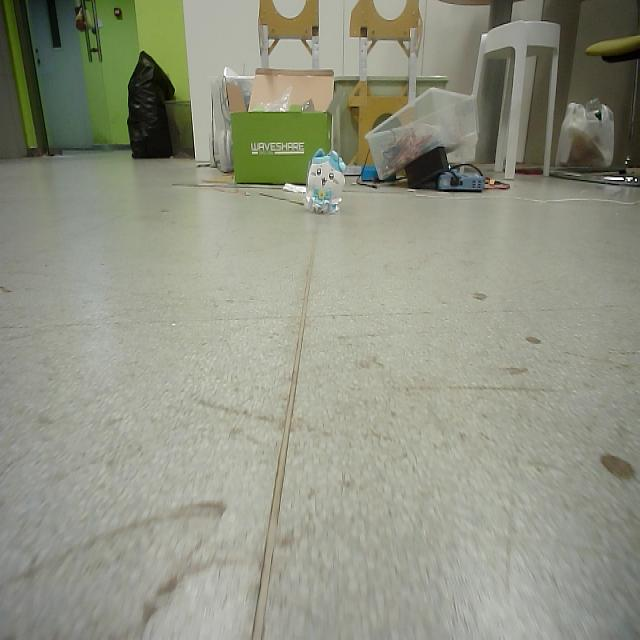xiaoba: (305, 146, 346, 214)
